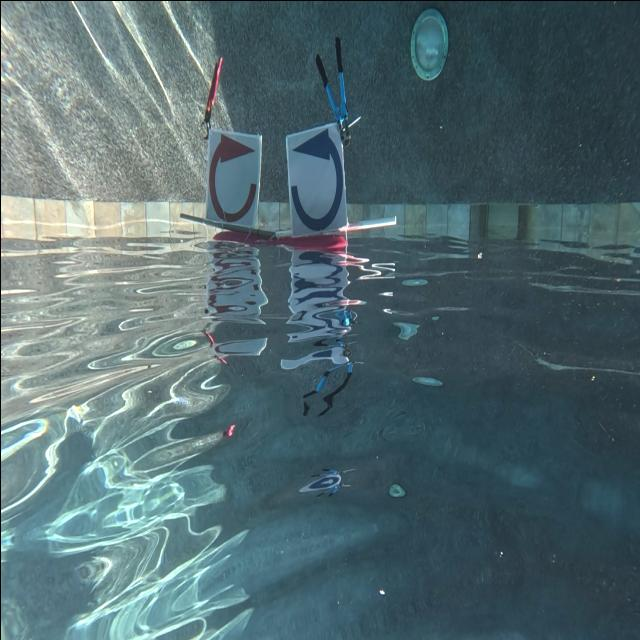blue_side: (284, 125, 346, 237)
red_side: (203, 129, 260, 228)
